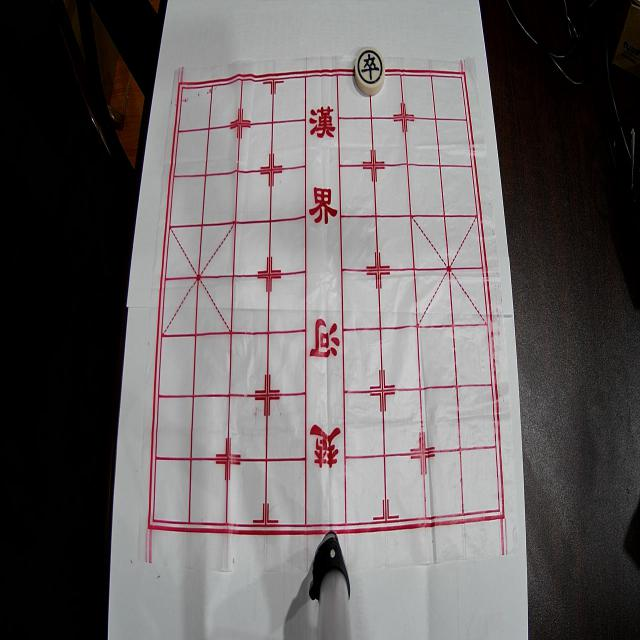black-soldier: (354, 47, 385, 96)
